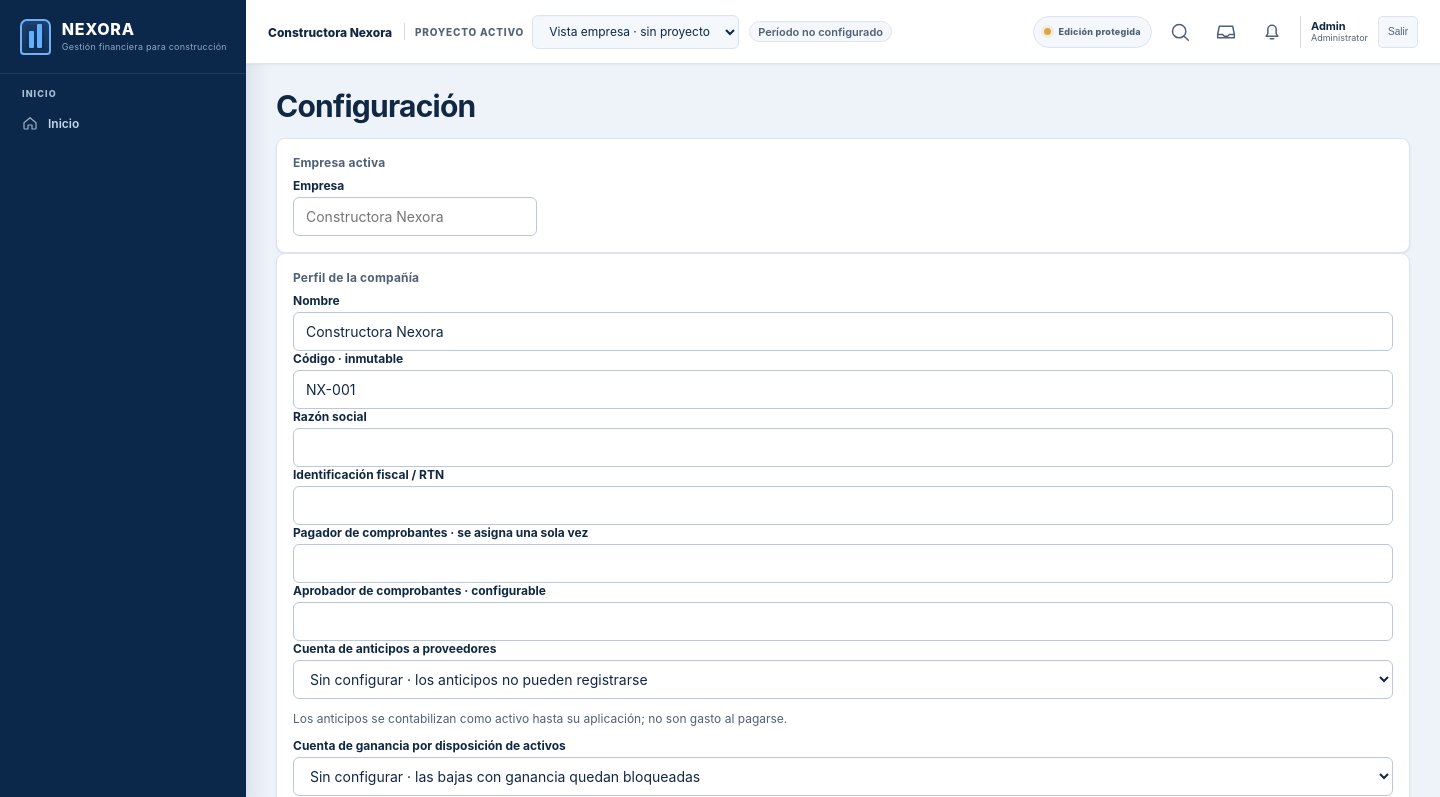
Test case: CompanySettingsPage › fixes the voucher payer once set and keeps the approver editable
Type "KAREN VANNESSA LOPEZ GONZALEZ" into the field labelled "Pagador de comprobantes · se asigna una sola vez" at point(843, 564), box [293,544,1393,583]
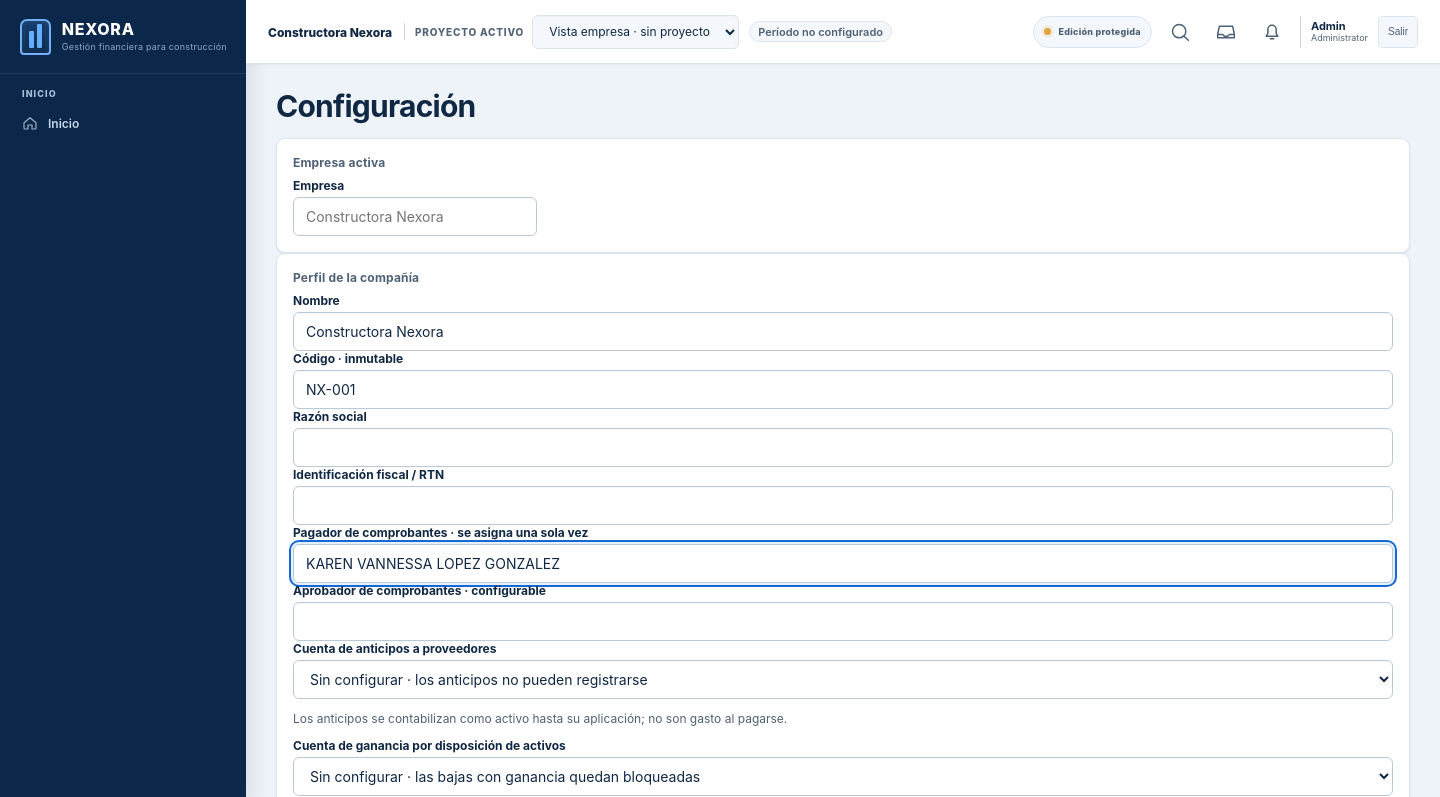
Type "CARLOS HUMBERTO LOPEZ" into the field labelled "Aprobador de comprobantes · configurable" at point(843, 622), box [293,602,1393,641]
(page scrolled)
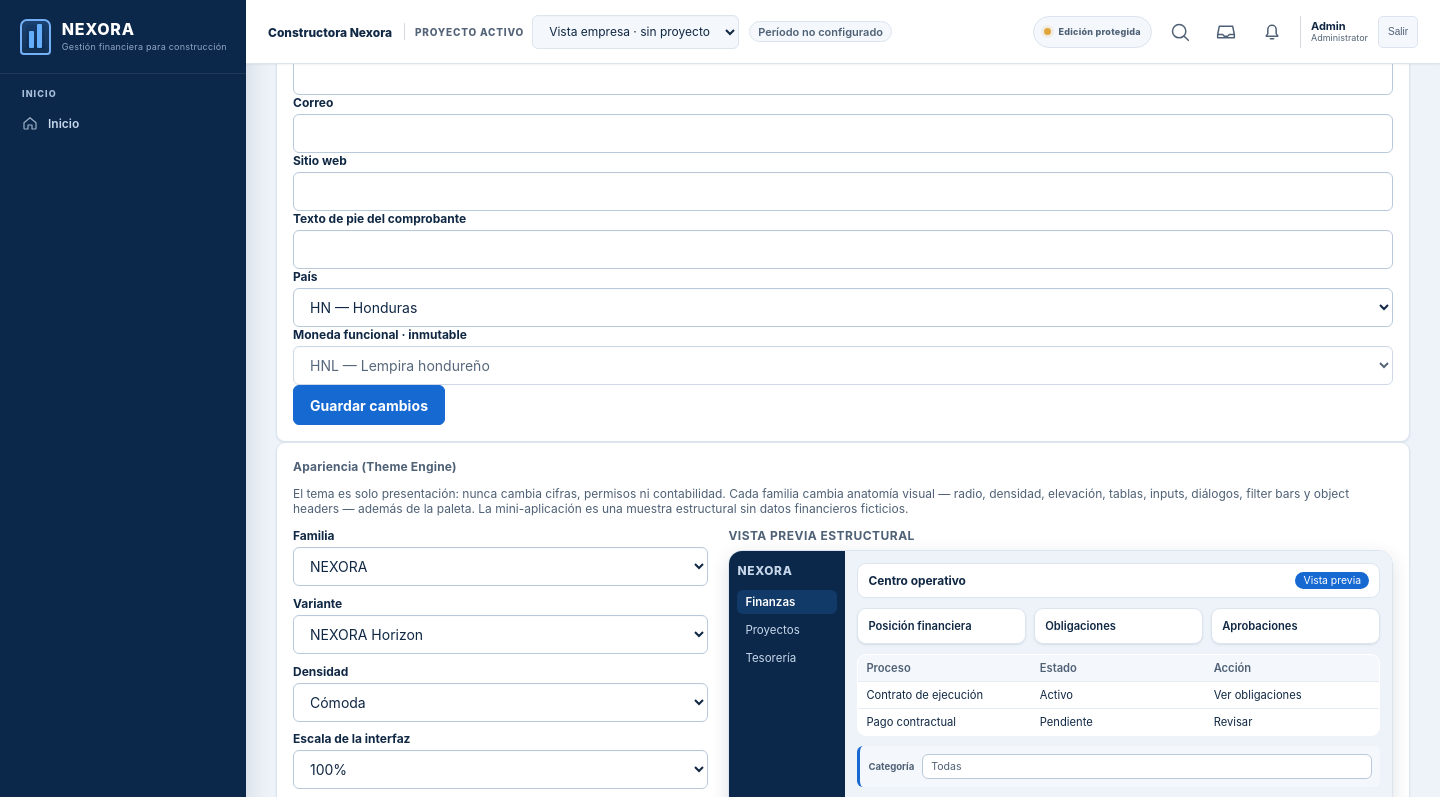
Click the button "Guardar cambios" at point(369, 405), box [293,385,445,425]
(page scrolled)
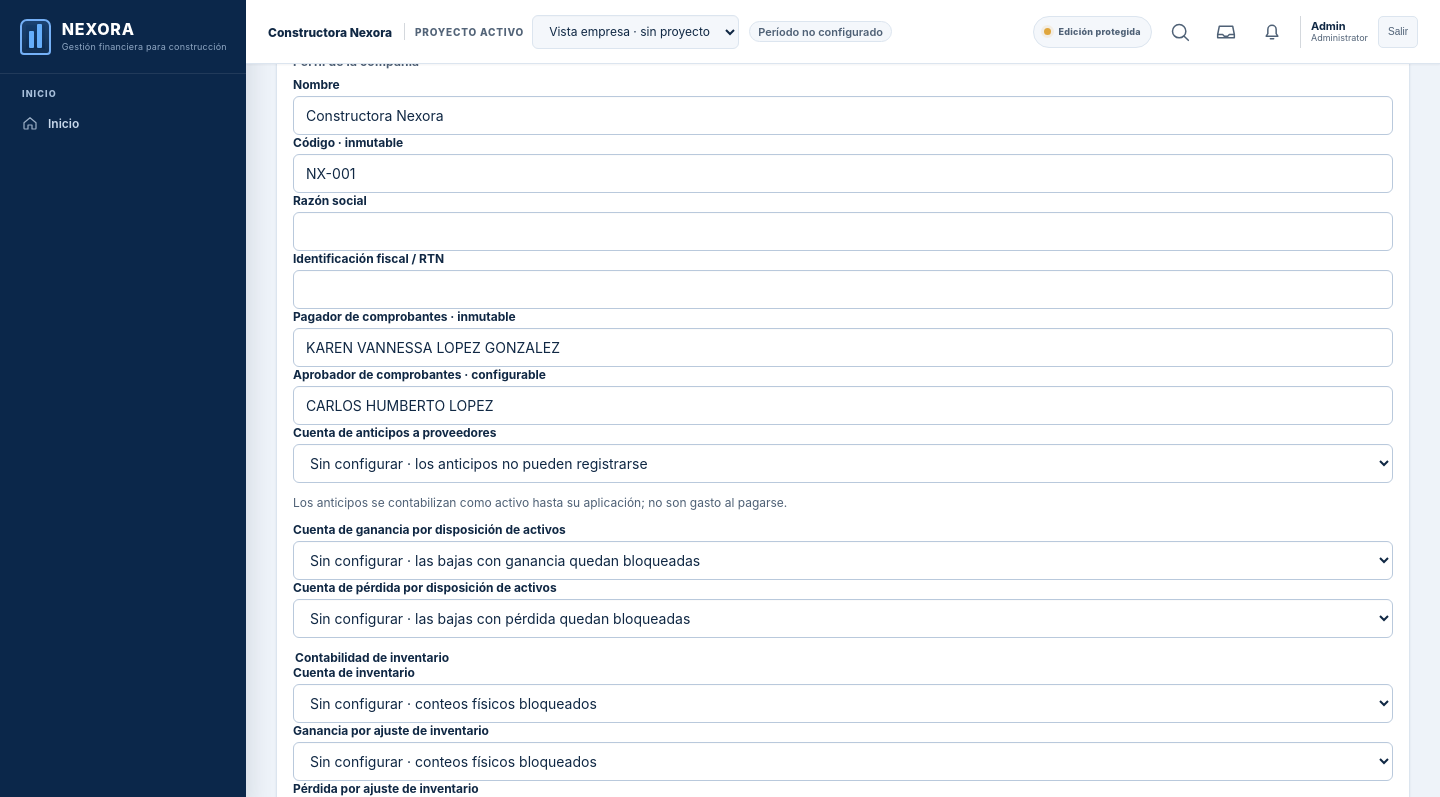
Expected: the field showing "CARLOS HUMBERTO LOPEZ" is enabled, [293,386,1393,425]
Expected: the field showing "KAREN VANNESSA LOPEZ GONZALEZ" is disabled, [293,328,1393,367]
